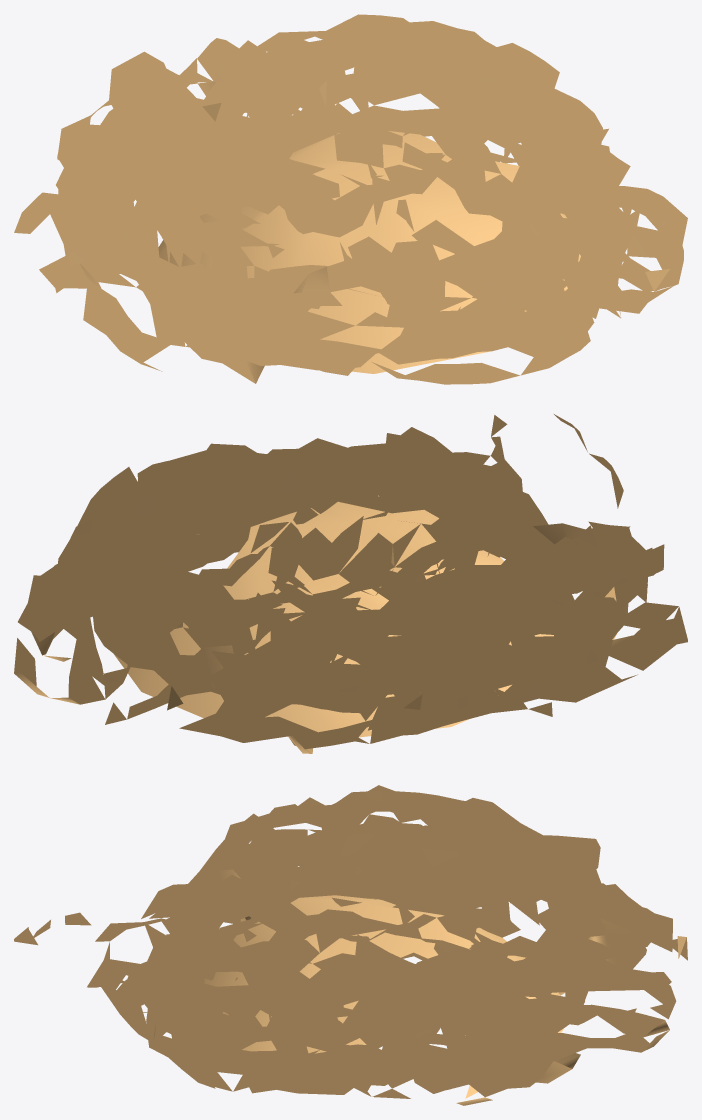
File: cookedspaghetti.glb
The picture shows the model from 3 angles, top to bottom: view 1: azimuth 30°, elevation 25°; view 2: azimuth 150°, elevation 25°; view 3: azimuth 270°, elevation 25°; orthographic projection. The views are drawn at different scales.
Parts seen in each view (by area): view 1: Node.001; view 2: Node.001; view 3: Node.001.
Part boxes in pixels (box(x1,y1,x2,y2)): Node.001: box(14, 14, 687, 384); Node.001: box(14, 414, 687, 753); Node.001: box(14, 785, 687, 1105).
Bounding box in the file's own units: 0.2823 × 0.0979 × 0.3426.
